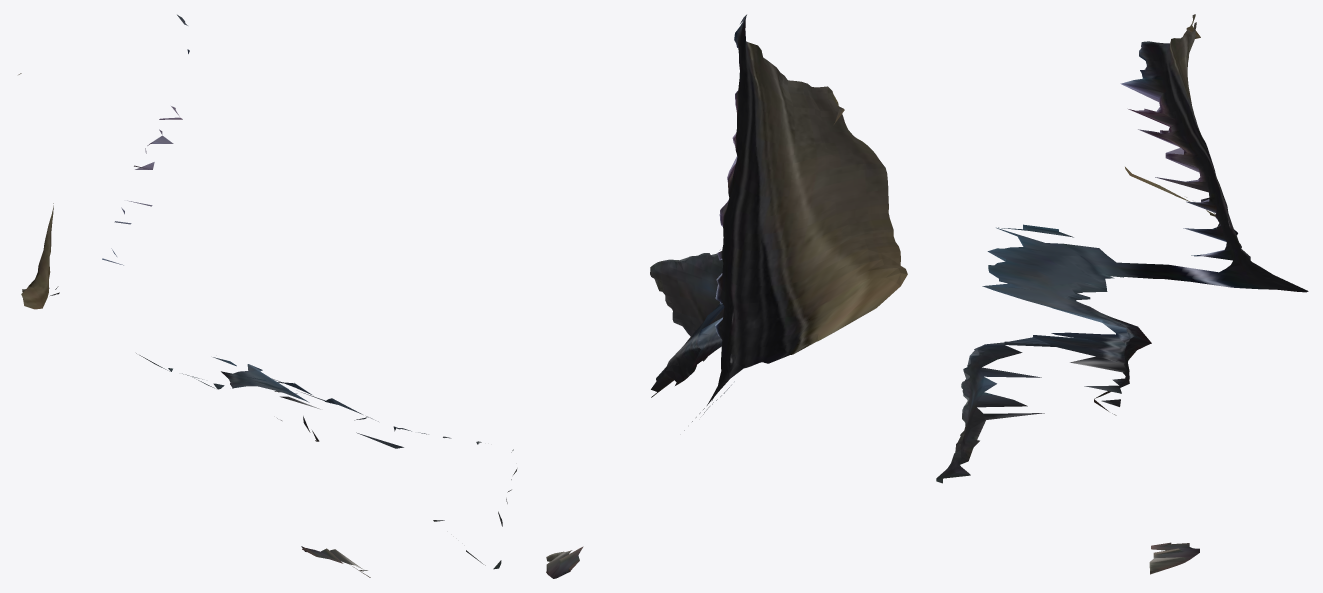
Rendered from observed-surface.glb.
3 renders of one model, left to right at view 1: azimuth 30°, elevation 25°; view 2: azimuth 150°, elevation 25°; view 3: azimuth 270°, elevation 25°, orthographic. The views are drawn at different scales.
Visible parts, largest first — view 1: geometry_0; view 2: geometry_0; view 3: geometry_0.
Boxes of the visible parts, left/top/right/bottom form: geometry_0: left=18, top=14, right=517, bottom=577; geometry_0: left=546, top=14, right=907, bottom=578; geometry_0: left=936, top=14, right=1308, bottom=574.
Size of the model in its own units: 0.4795 by 0.7536 by 0.5498.
1 material, 1 textured.
